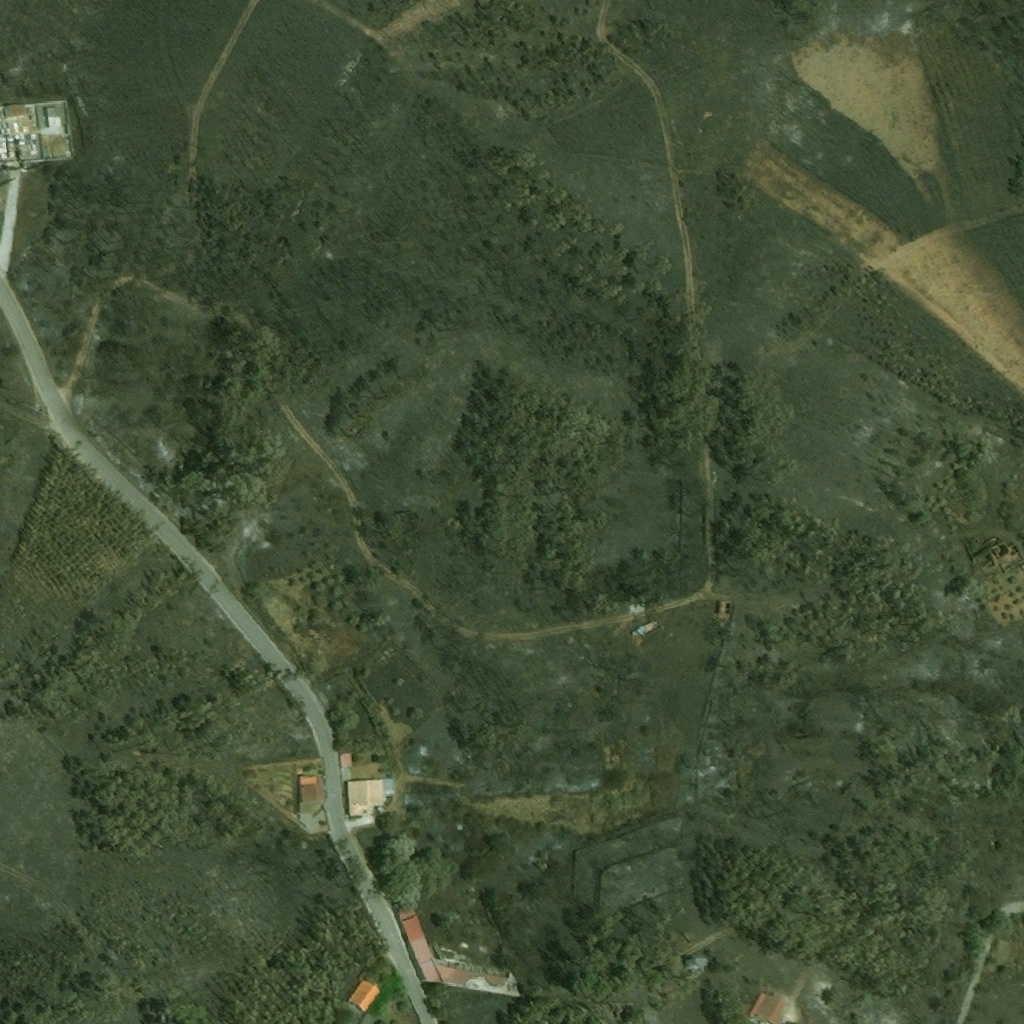0 no-damage: (393, 903, 524, 997), (0, 99, 75, 167), (345, 780, 385, 817), (748, 990, 790, 1023), (346, 978, 382, 1013), (296, 768, 324, 806), (684, 952, 710, 973), (340, 754, 352, 782), (383, 779, 394, 794)
3 destroyed: (627, 615, 665, 646), (982, 534, 1010, 564), (716, 600, 732, 617)
